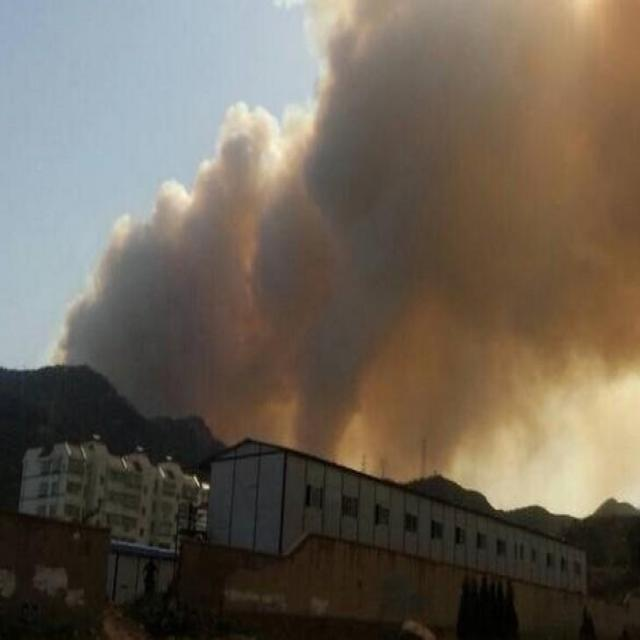Smoke: (49, 1, 640, 480)
